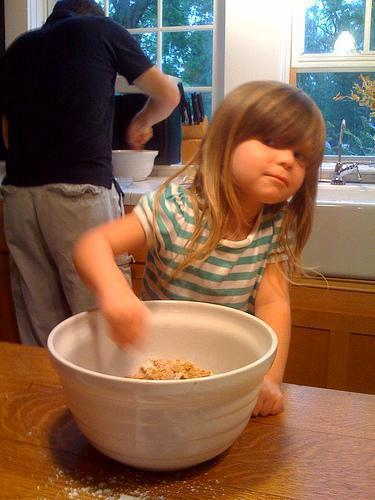Lavaplatos: (256, 95, 374, 299)
